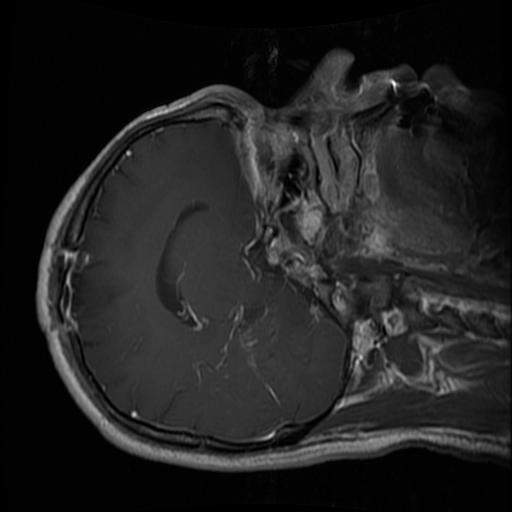glioma: (81, 259, 121, 318)
